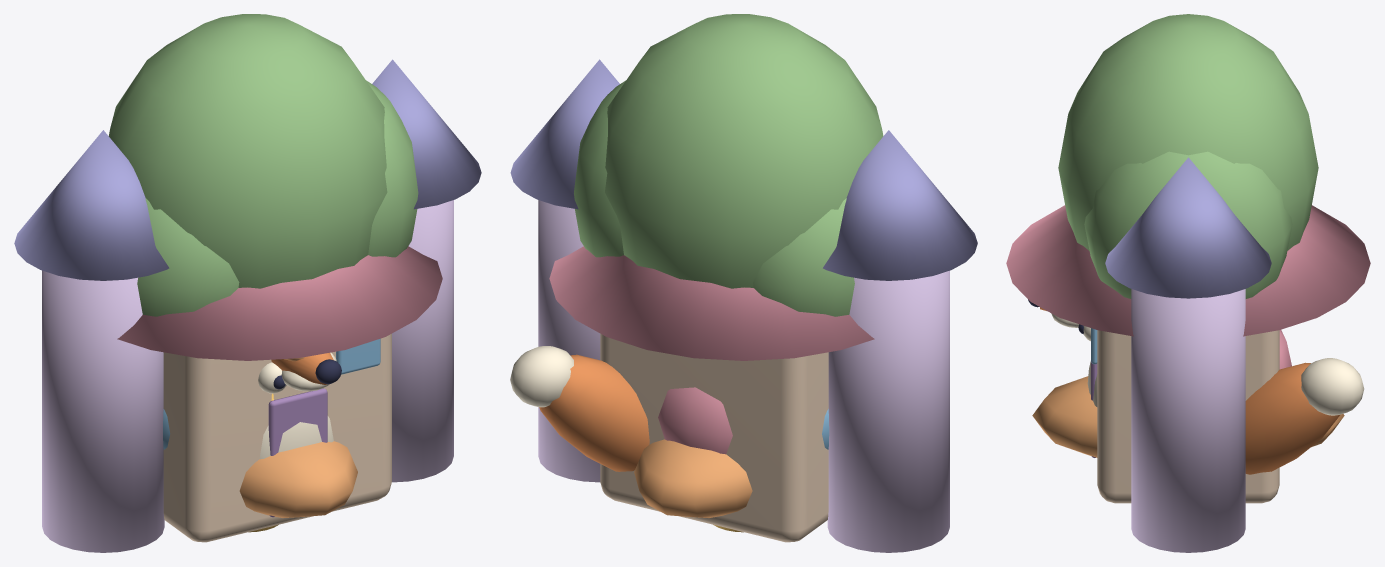
Rendered from toybox.glb.
The picture shows the model from 3 angles, left to right: view 1: azimuth 30°, elevation 25°; view 2: azimuth 150°, elevation 25°; view 3: azimuth 270°, elevation 25°; orthographic projection. The views are drawn at different scales.
Visible parts, largest first — view 1: castle, tree, boat, fox, snail; view 2: castle, tree, fox, boat, snail; view 3: castle, tree, fox, boat, snail.
Boxes of the visible parts, x1=… form: castle: x1=14, y1=59, x2=481, y2=552; tree: x1=109, y1=14, x2=418, y2=316; boat: x1=239, y1=441, x2=357, y2=517; fox: x1=259, y1=352, x2=341, y2=459; snail: x1=258, y1=352, x2=336, y2=400; castle: x1=510, y1=59, x2=977, y2=552; tree: x1=574, y1=14, x2=883, y2=316; fox: x1=510, y1=346, x2=649, y2=471; boat: x1=634, y1=439, x2=752, y2=517; snail: x1=658, y1=387, x2=732, y2=454; castle: x1=1006, y1=157, x2=1370, y2=552; tree: x1=1058, y1=14, x2=1318, y2=298; fox: x1=1028, y1=299, x2=1364, y2=474; boat: x1=1032, y1=376, x2=1344, y2=457; snail: x1=1078, y1=324, x2=1291, y2=369.
Bounding box in the file's own units: 1.84 × 1.99 × 1.4.
